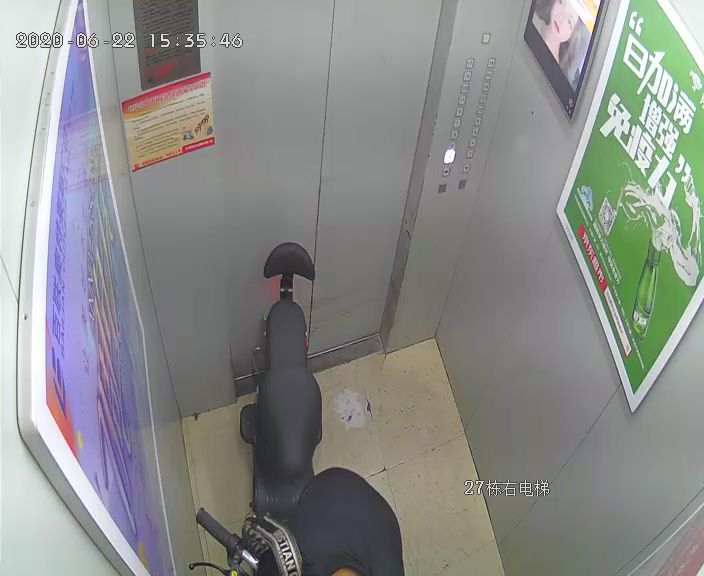Electric-bicycle: (188, 237, 321, 576)
